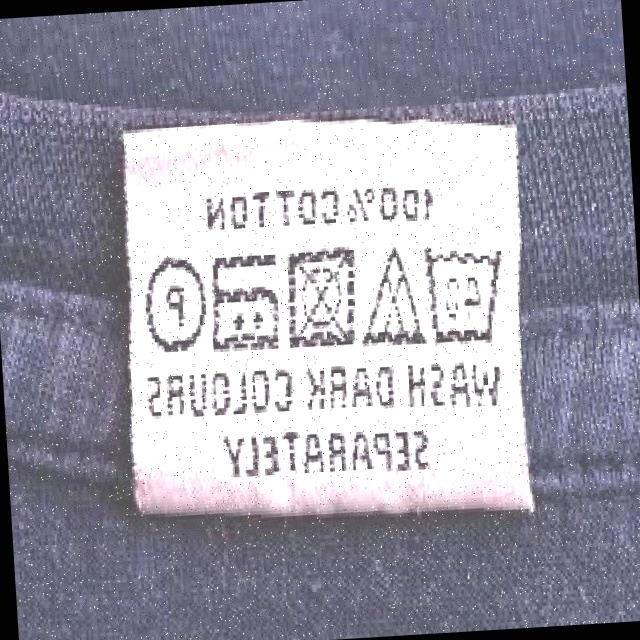40C: (418, 237, 511, 348)
DN_bleach: (359, 245, 427, 348)
DN_tumble_dry: (279, 242, 361, 349)
dry_clean_any_solvent_except_trichloroethylene: (142, 250, 210, 360)
iron_medium: (203, 248, 286, 356)
